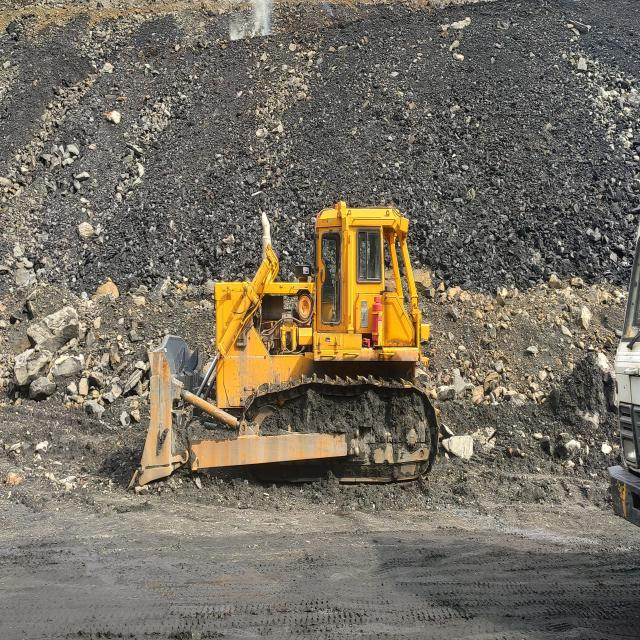buldozerpayloadergrader: (140, 202, 438, 482)
